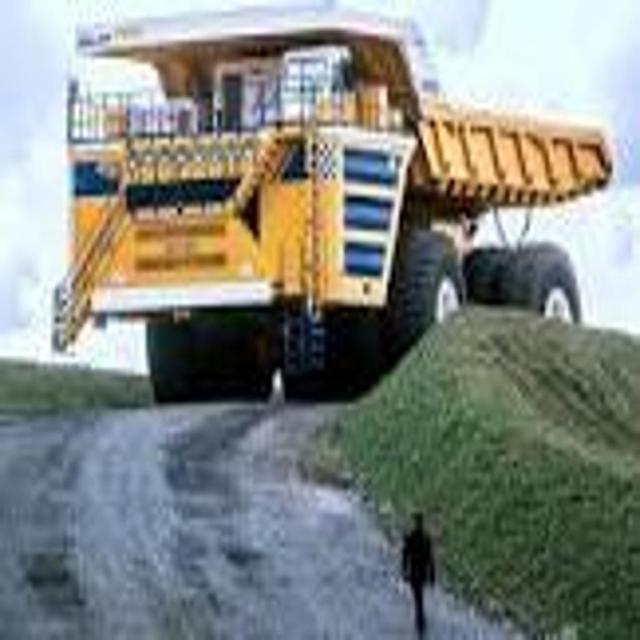dump_truck: (53, 4, 610, 409)
